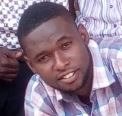without_facemask: (40, 66, 92, 97)
